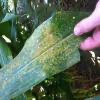Corn rust leaf: (0, 10, 72, 100)
